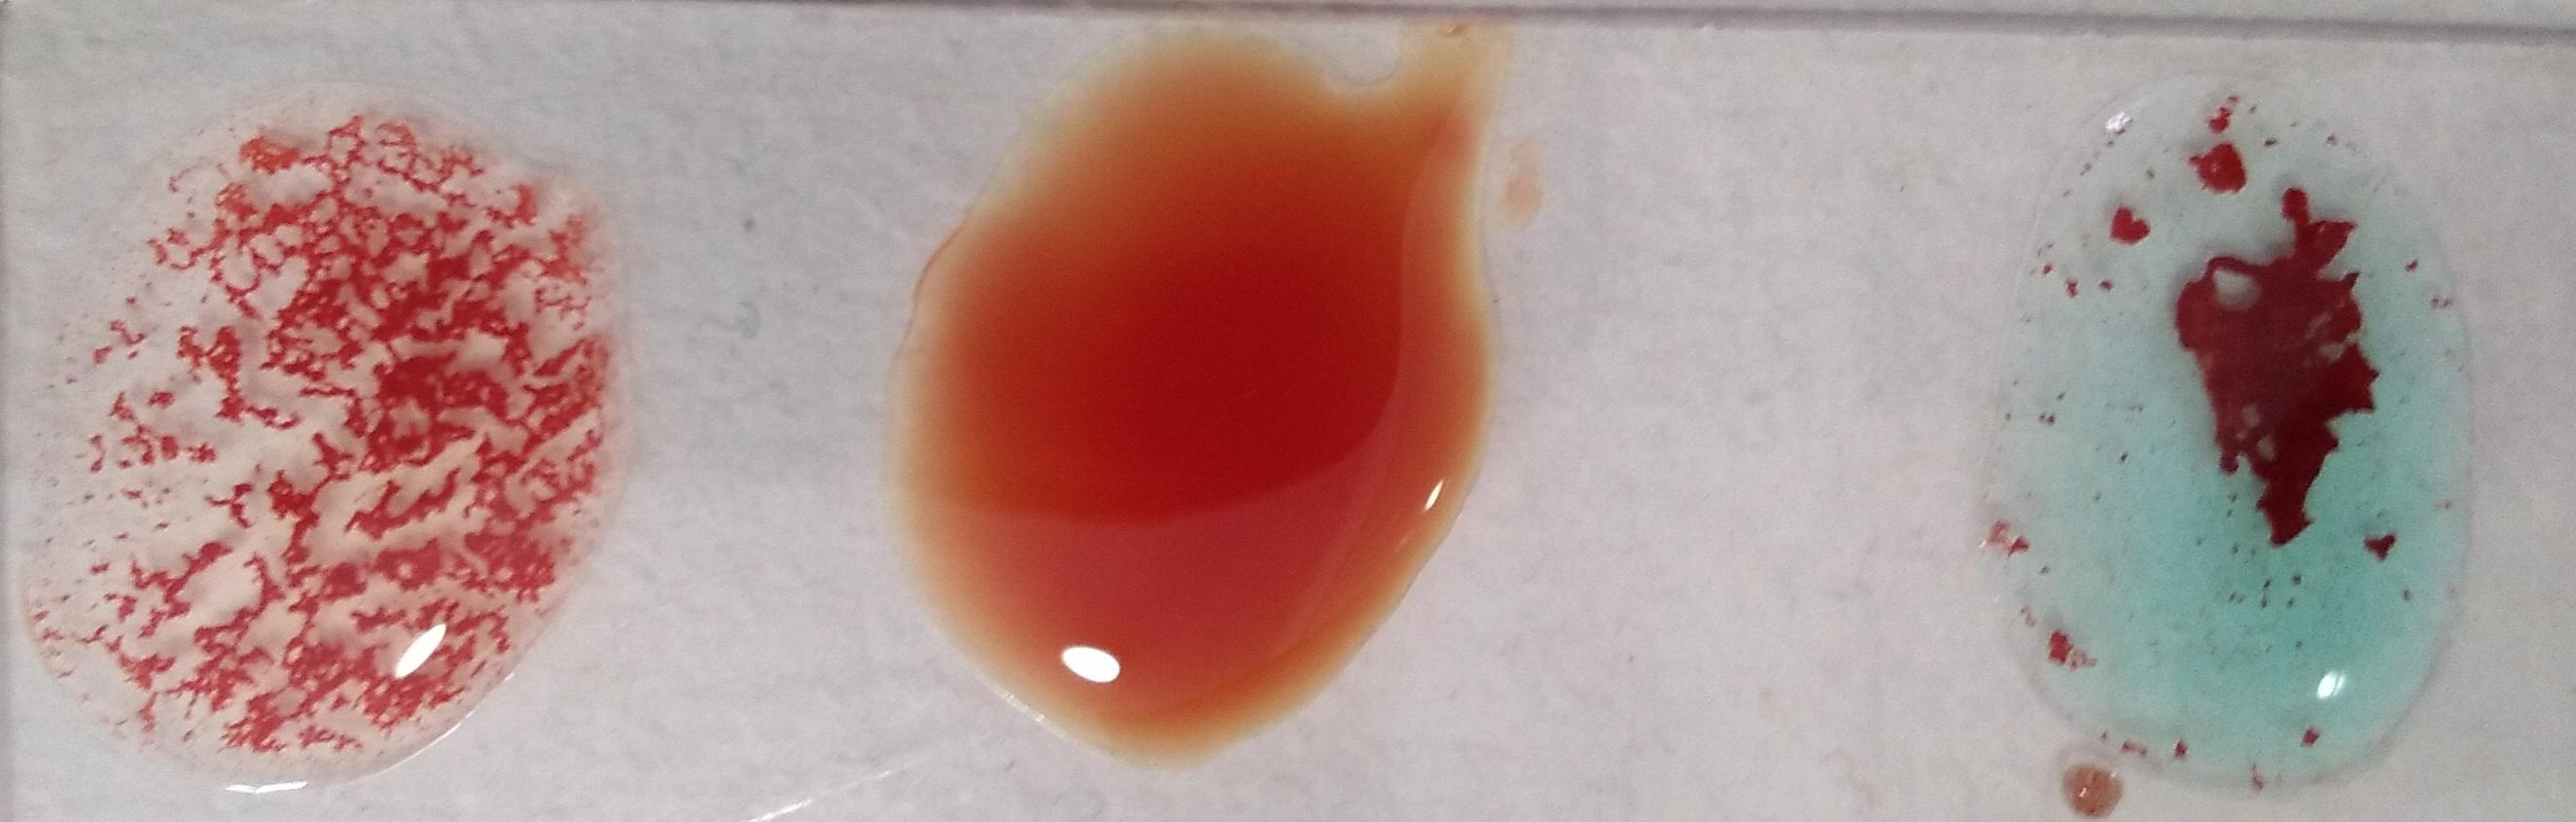A: (2004, 94, 2479, 802)
D: (30, 117, 626, 783)
